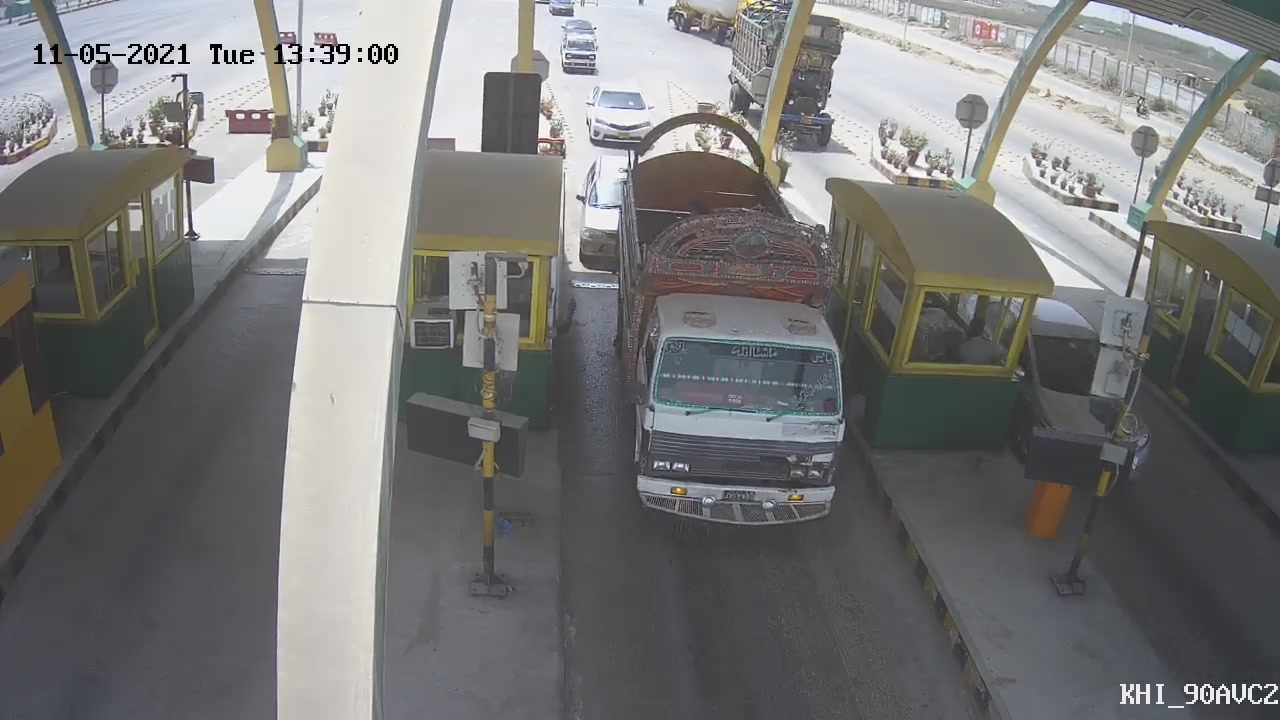F5: (588, 112, 858, 538)
